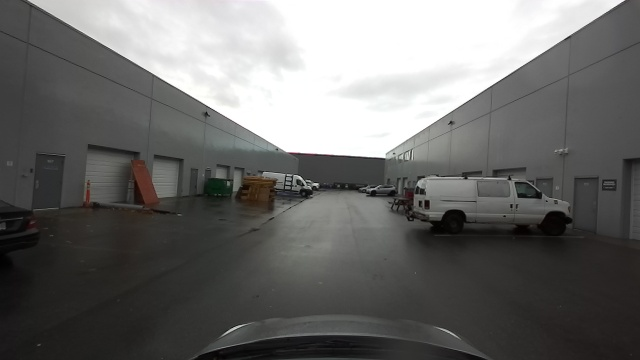car: (412, 174, 574, 237), (275, 172, 312, 197), (368, 185, 397, 196)
